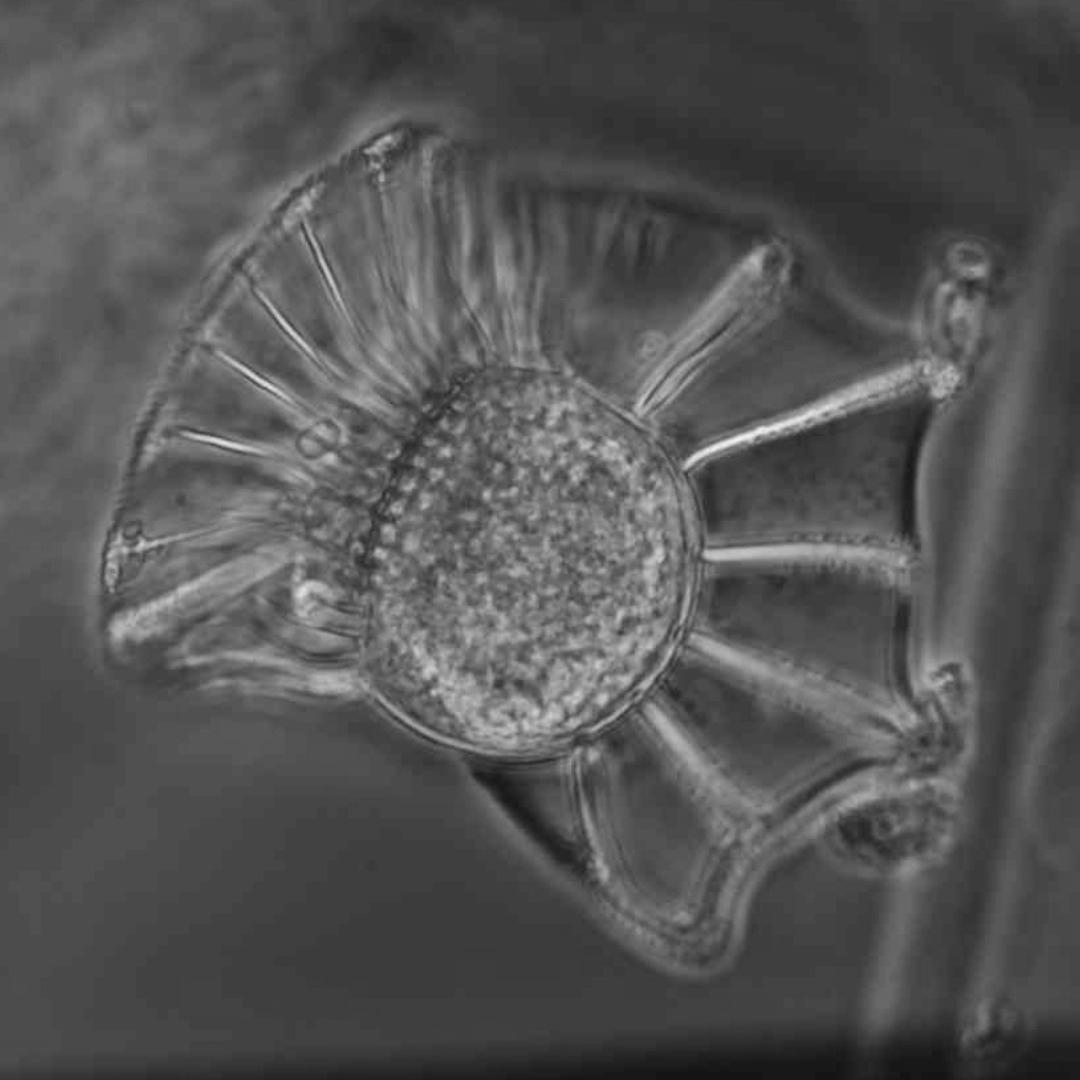ornithocercus_thumii: (97, 115, 956, 960)
